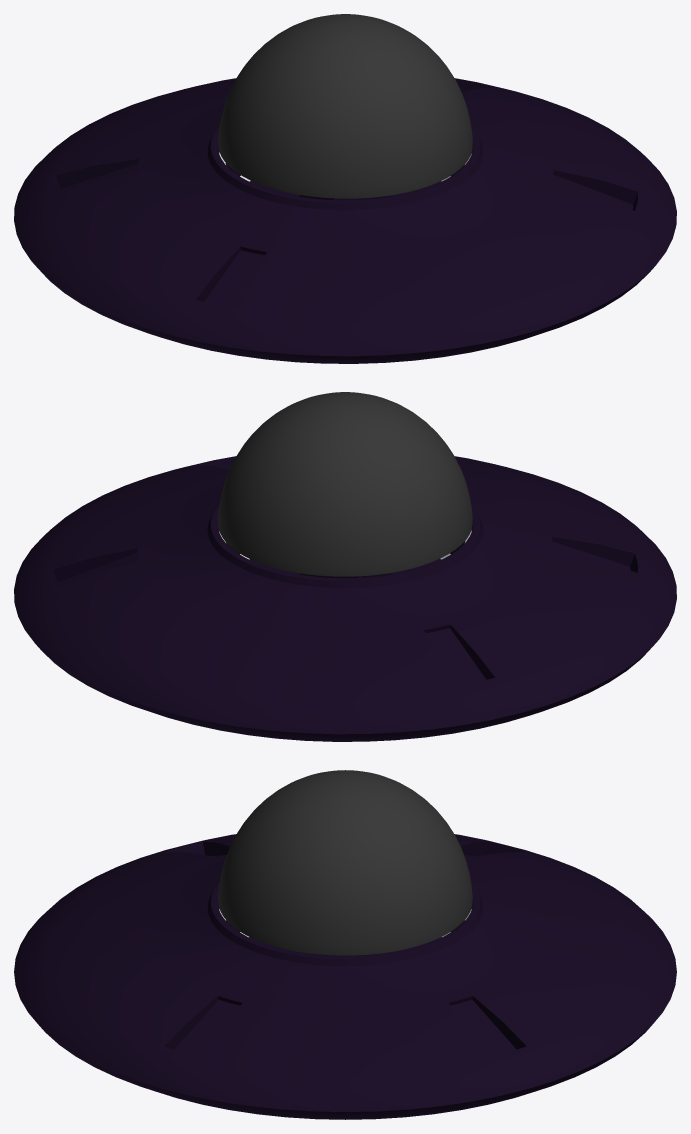
The model's file is UFO .fbx.
The picture shows the model from 3 angles, top to bottom: view 1: azimuth 30°, elevation 25°; view 2: azimuth 150°, elevation 25°; view 3: azimuth 270°, elevation 25°; orthographic projection.
Parts seen in each view (by area): view 1: Ufo- body, Ufo - Glass; view 2: Ufo- body, Ufo - Glass; view 3: Ufo- body, Ufo - Glass.
Boxes of the visible parts, left/top/right/bottom form: Ufo- body: left=14, top=78, right=676, bottom=363; Ufo - Glass: left=218, top=14, right=472, bottom=198; Ufo- body: left=14, top=456, right=676, bottom=741; Ufo - Glass: left=218, top=392, right=472, bottom=576; Ufo- body: left=14, top=834, right=676, bottom=1119; Ufo - Glass: left=218, top=770, right=472, bottom=955.
Bounding box in the file's own units: 19.72 × 8.52 × 19.72.
